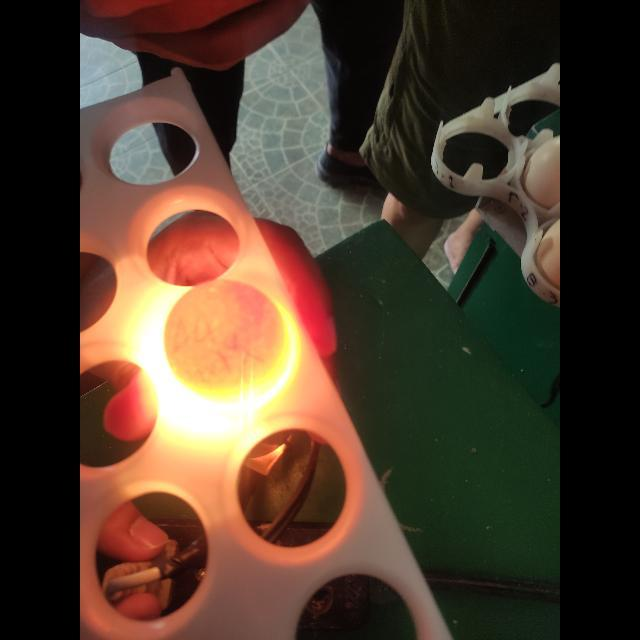Infertile: (164, 274, 302, 406)
